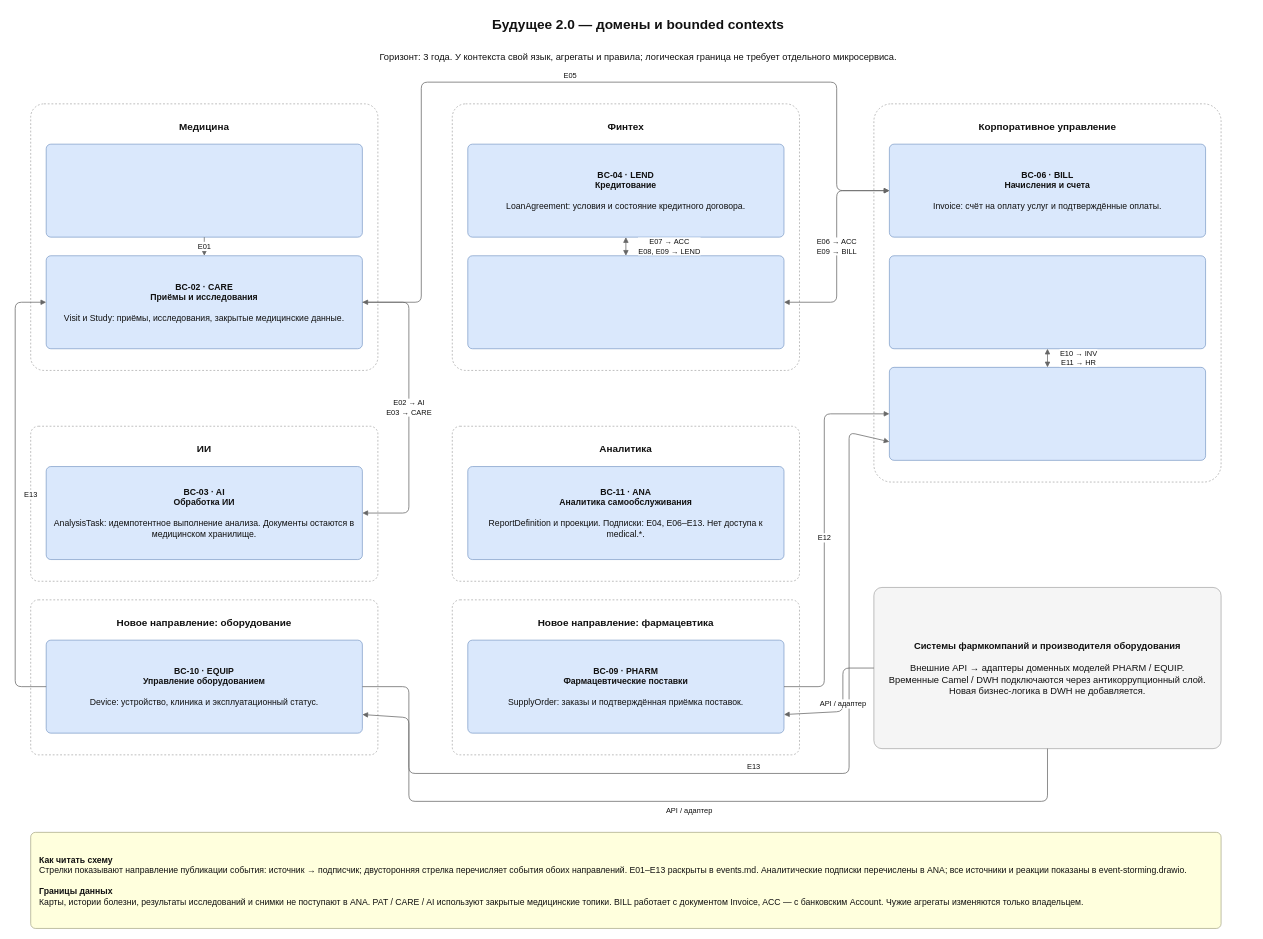
Some shapes in this 1263 by 939 pixel diagram are drawn without their labels. The shapes that lost their labels are listed below. From the top down, each one's centre as x and y in pixels, then its label:
the point at 204,190: BC-01 · PAT Пациенты Patient: регистрация и статус пациента.
the point at 625,302: BC-05 · ACC Счета и расчёты Account: банковский счёт и подтверждённые операции.
the point at 1047,302: BC-07 · HR Кадровый учёт Employee: сотрудник, подразделение и кадровый статус.
the point at 1047,413: BC-08 · INV Складской учёт StockItem: остатки, поступления и выдача имущества.
